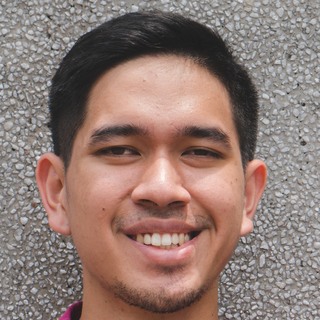eye: (92, 140, 145, 164), (177, 141, 226, 165)
